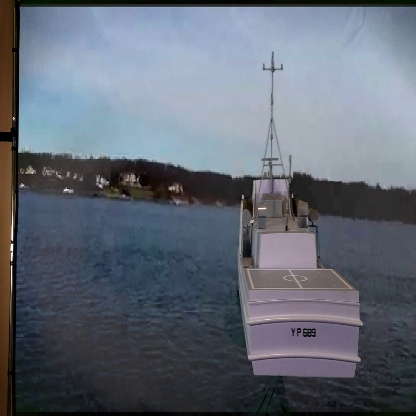YP689: (235, 51, 363, 381)
